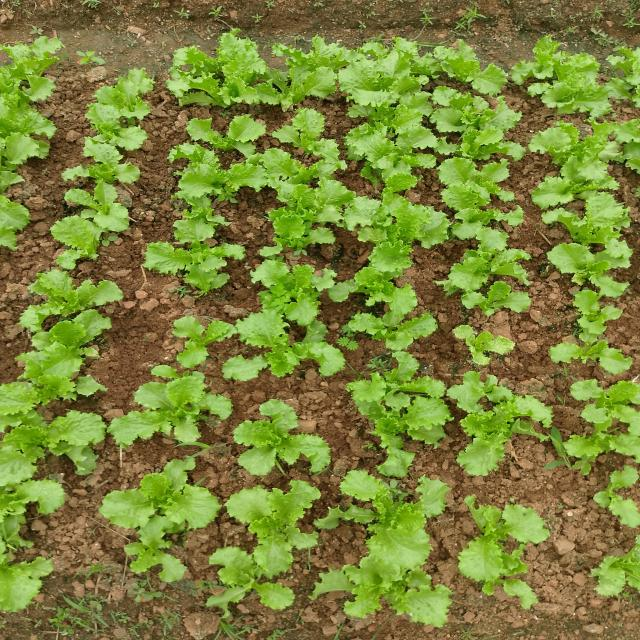Lettuce: (313, 558, 463, 624), (107, 450, 219, 528), (115, 370, 224, 450), (349, 464, 438, 560), (234, 397, 334, 478), (22, 259, 115, 337), (1, 406, 106, 474), (272, 157, 346, 248), (245, 307, 347, 373), (468, 495, 540, 586), (207, 536, 294, 610), (447, 394, 528, 473), (546, 228, 636, 297), (525, 52, 620, 117), (351, 382, 444, 448), (175, 42, 266, 109), (162, 166, 238, 246), (438, 156, 526, 223), (532, 128, 617, 194), (46, 174, 138, 233), (2, 338, 82, 405), (461, 234, 533, 306), (349, 108, 427, 173), (351, 296, 445, 349), (427, 86, 512, 144), (153, 244, 235, 299), (0, 32, 59, 108), (543, 334, 637, 379), (570, 375, 640, 435), (0, 546, 56, 616), (358, 46, 432, 98), (274, 44, 340, 96), (593, 464, 640, 534), (167, 303, 220, 362), (174, 124, 252, 164), (90, 68, 153, 116), (454, 324, 520, 369), (588, 546, 640, 603), (439, 36, 505, 80), (273, 109, 331, 158), (85, 142, 140, 187)
